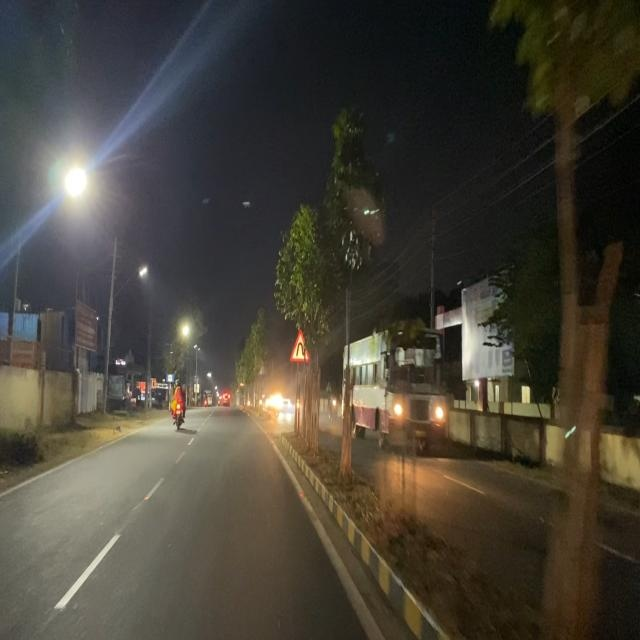bien_nguy_hiem: (289, 328, 310, 364)
